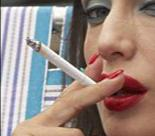Cigarette: (25, 37, 95, 87)
